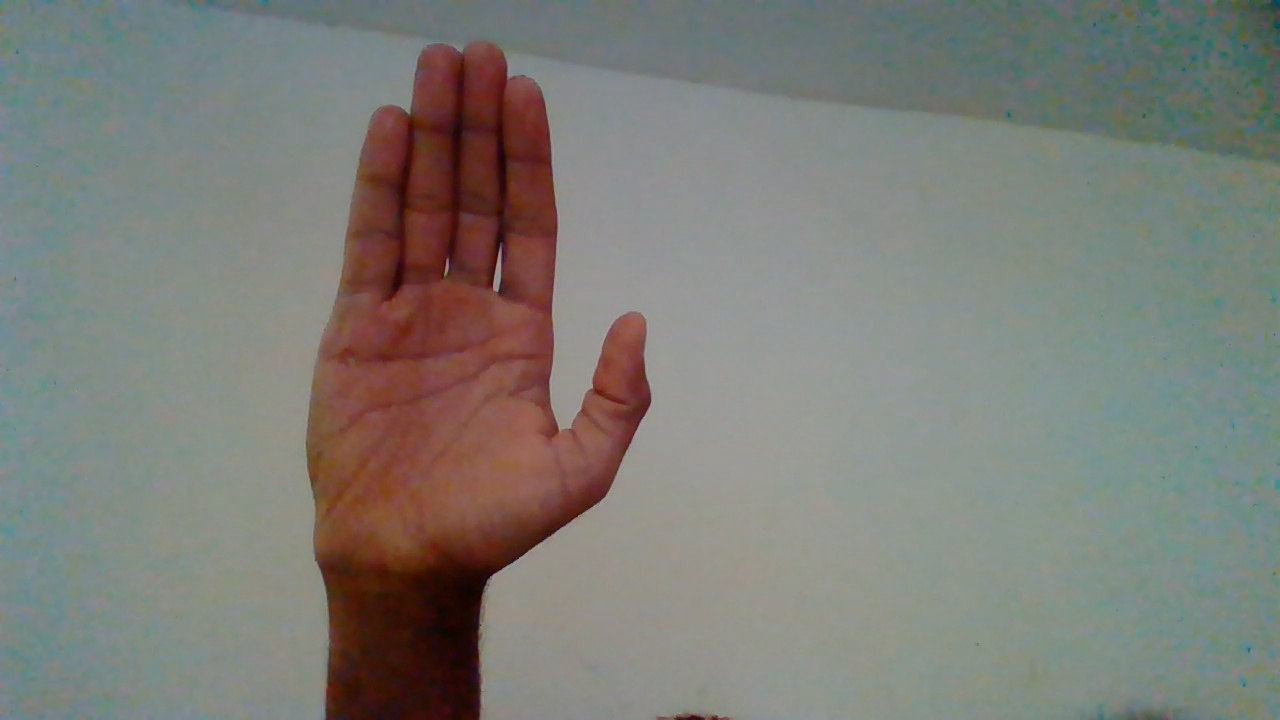ha: (295, 37, 664, 720)
